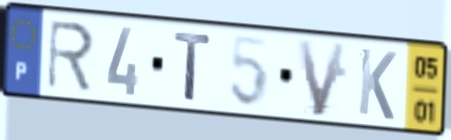4: (104, 25, 141, 98)
5: (228, 32, 272, 111)
K: (356, 45, 399, 124)
R: (44, 18, 97, 95)
T: (172, 29, 215, 104)
V: (293, 37, 351, 120)
